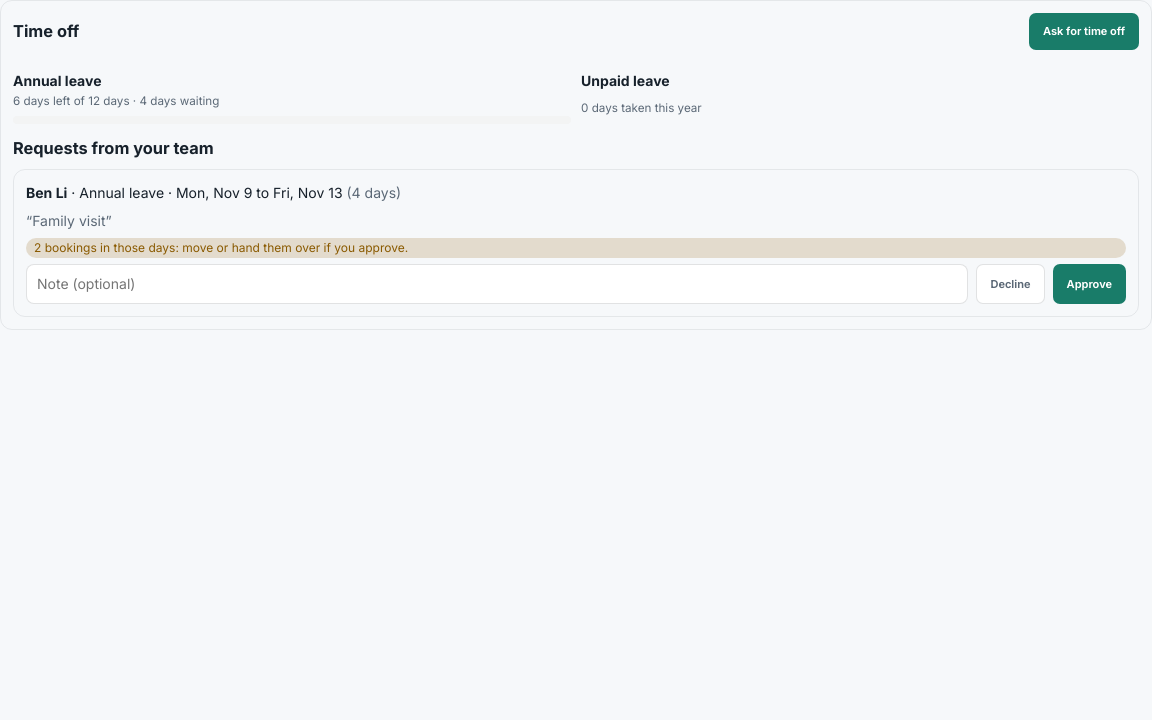
Test: Time off › shows balances, asks for time off and lets a manager answer their team
Expected: the text "6 days left of 12 days · 4 days waiting" is shown, top-left (13, 94), bottom-right (219, 108)
Expected: the text "2 bookings in those days" is shown, top-left (26, 238), bottom-right (1126, 258)
Click the button "Approve" at (1089, 284), box top-left (1052, 264), bottom-right (1126, 304)
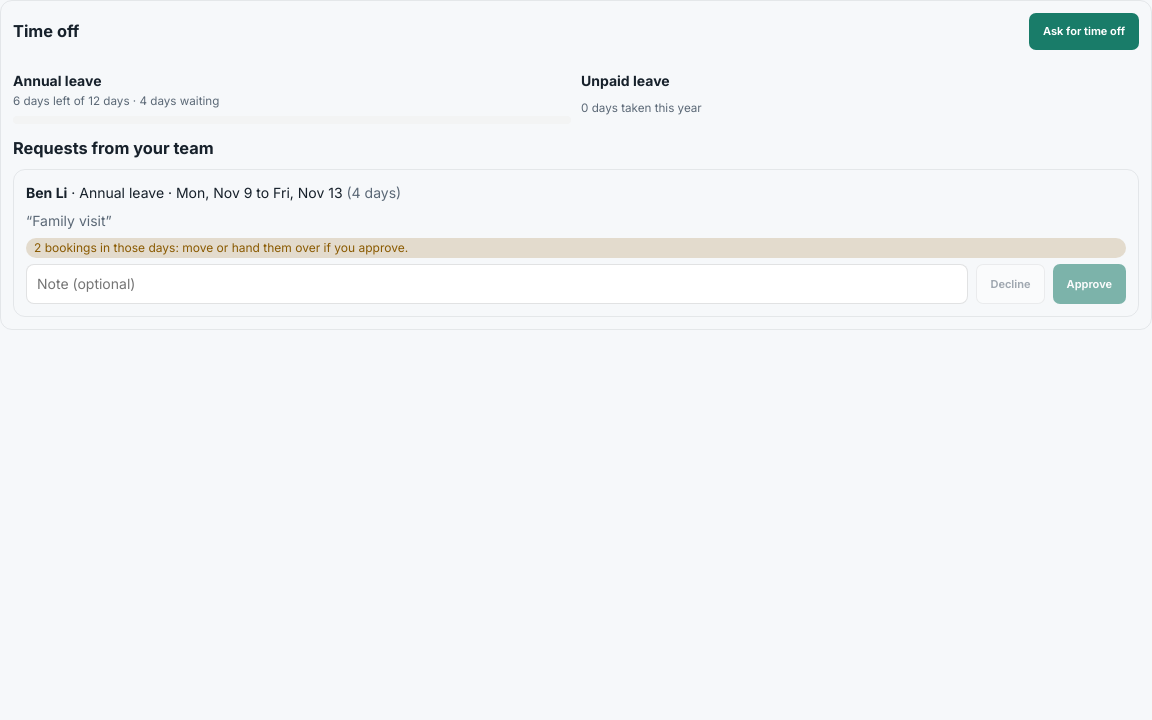
Click the button "Ask for time off" at (1084, 32), box top-left (1029, 13), bottom-right (1139, 50)
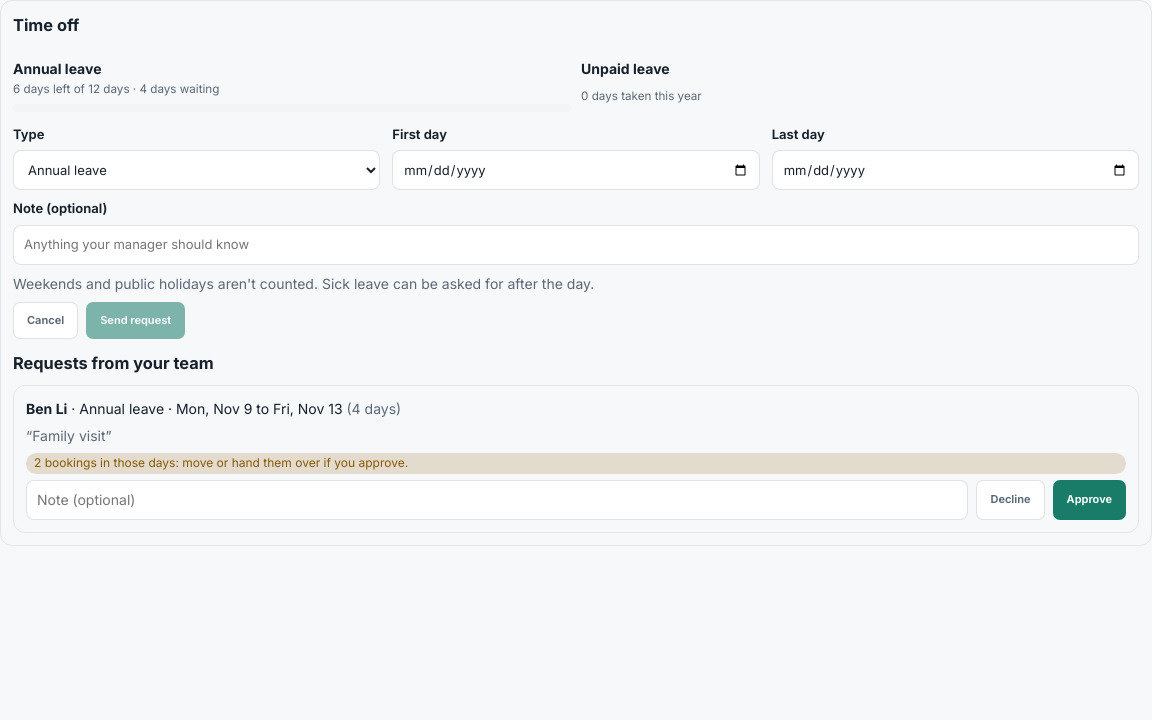
Type "2026-11-16" into the date field labelled "First day" at (576, 170), box top-left (392, 150), bottom-right (760, 190)
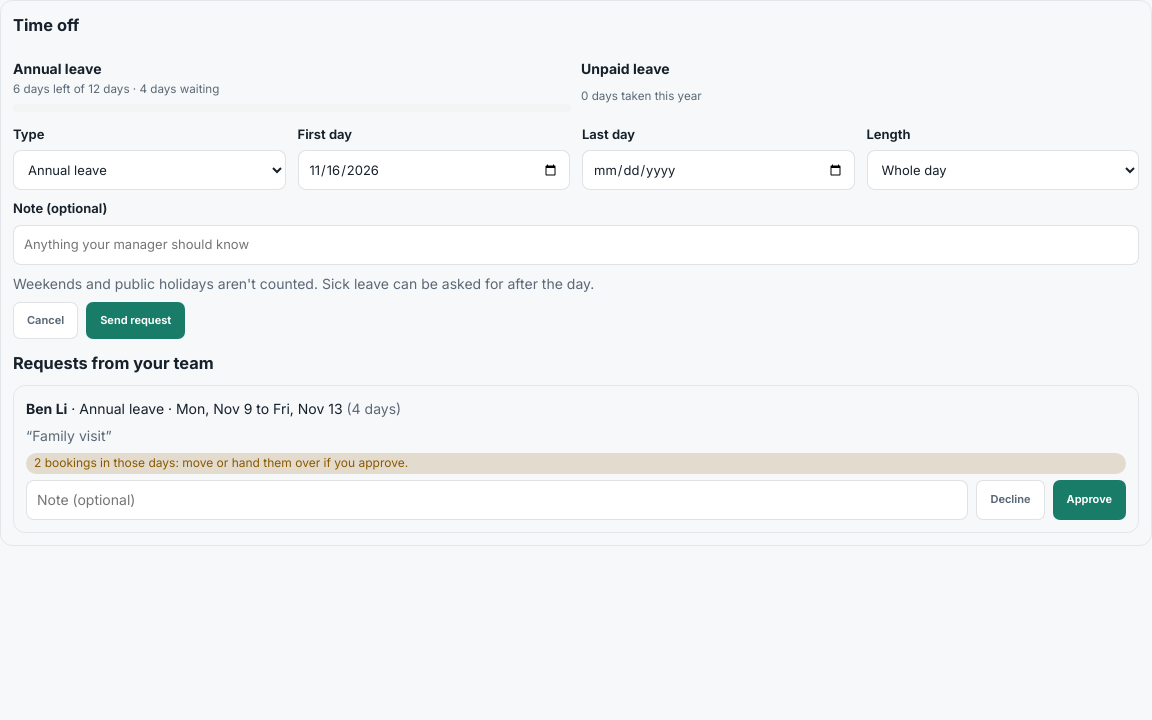
Select "Afternoon only" in the dropdown labelled "Length" at (1003, 170), box top-left (866, 150), bottom-right (1139, 190)
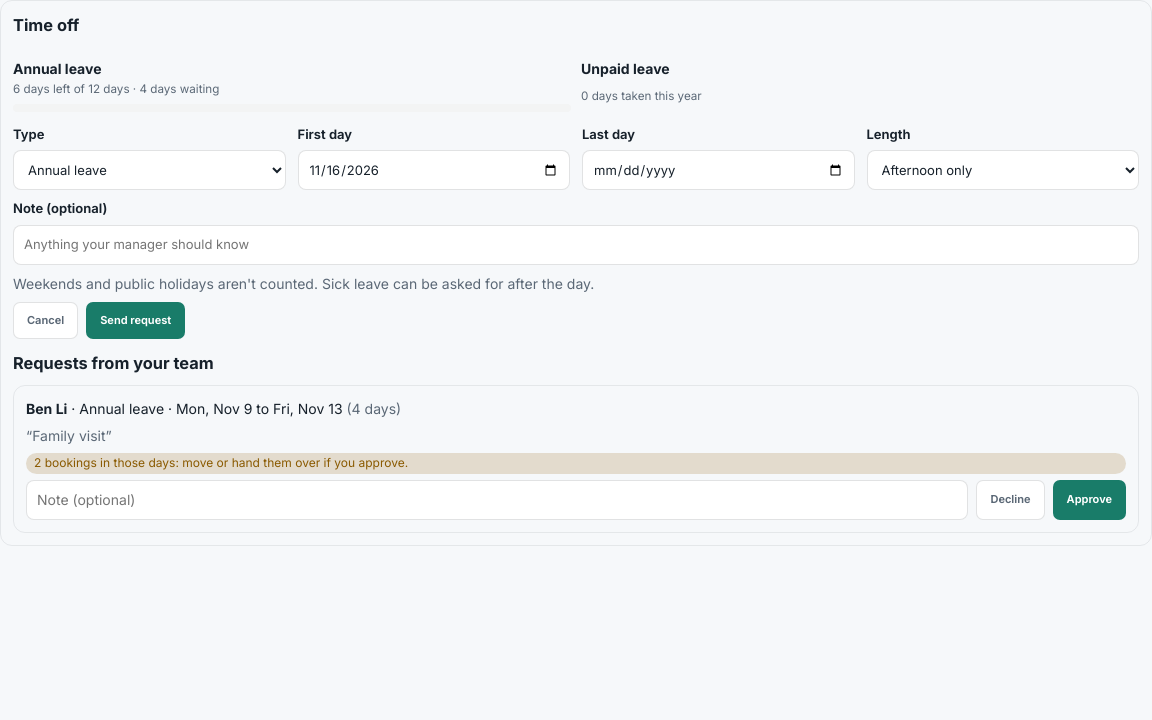
Click the button "Send request" at (136, 321), box top-left (86, 302), bottom-right (185, 339)
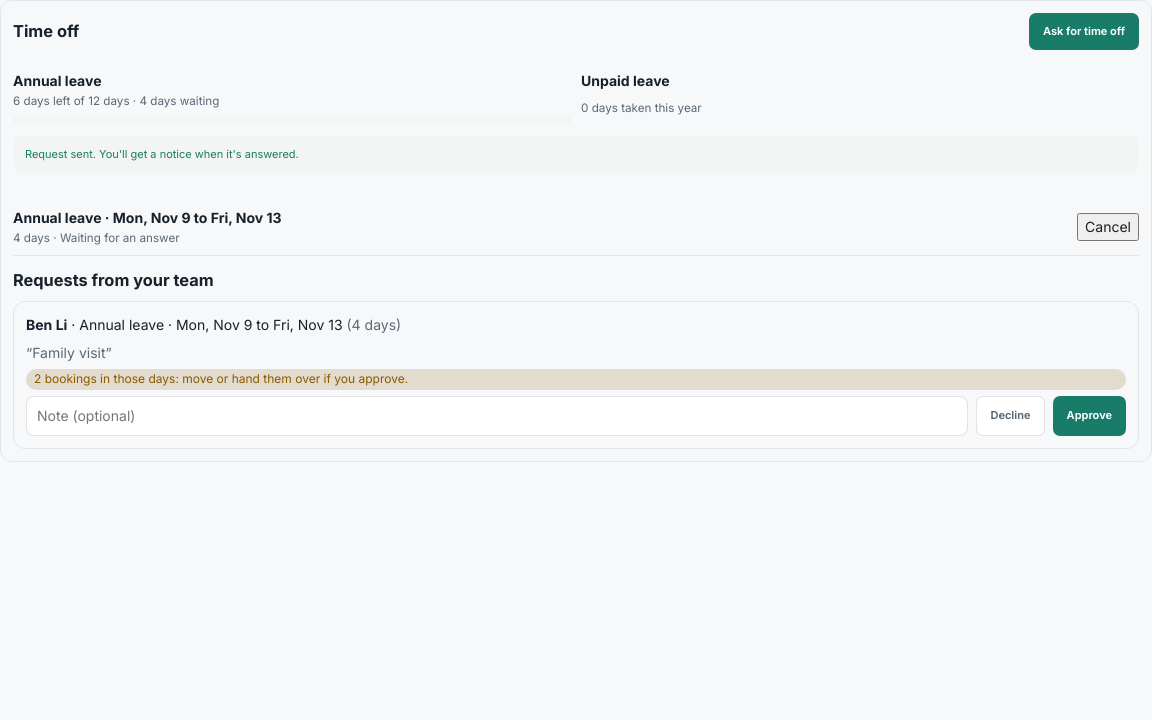
Now the text "Request sent. You'll get a notice when it's answered." is shown, box top-left (13, 136), bottom-right (1139, 173)
